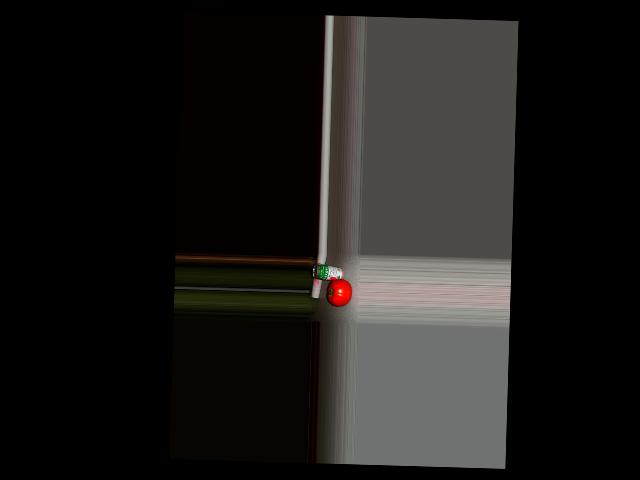tomato: (327, 279, 352, 307)
